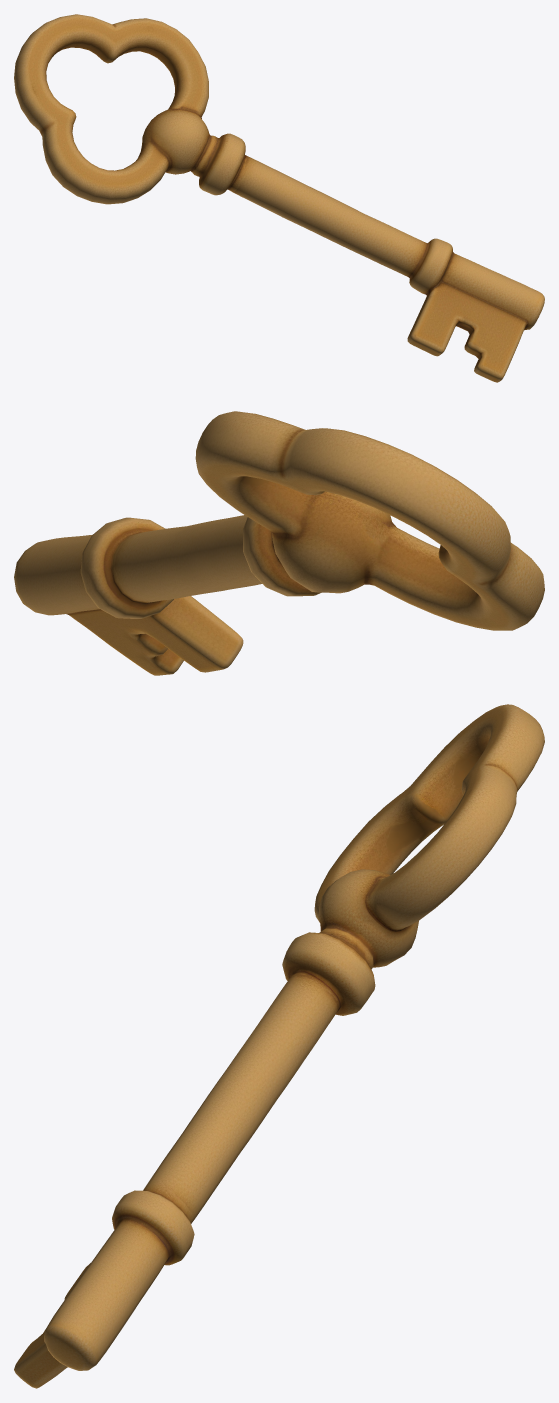
File: tripo_convert_626f525d-3d18-4ce0-8347-a112cdbc5c79.fbx
3 renders of one model, top to bottom at view 1: azimuth 30°, elevation 25°; view 2: azimuth 150°, elevation 25°; view 3: azimuth 270°, elevation 25°, orthographic. The views are drawn at different scales.
Parts seen in each view (by area): view 1: tripo_node_626f525d; view 2: tripo_node_626f525d; view 3: tripo_node_626f525d.
Part boxes in pixels (box(x1,y1,x2,y2)): tripo_node_626f525d: box(14, 14, 544, 382); tripo_node_626f525d: box(14, 411, 544, 675); tripo_node_626f525d: box(14, 704, 544, 1388).
Bounding box in the file's own units: 0.9793 × 0.7453 × 0.7587.
1 material, 1 textured.
